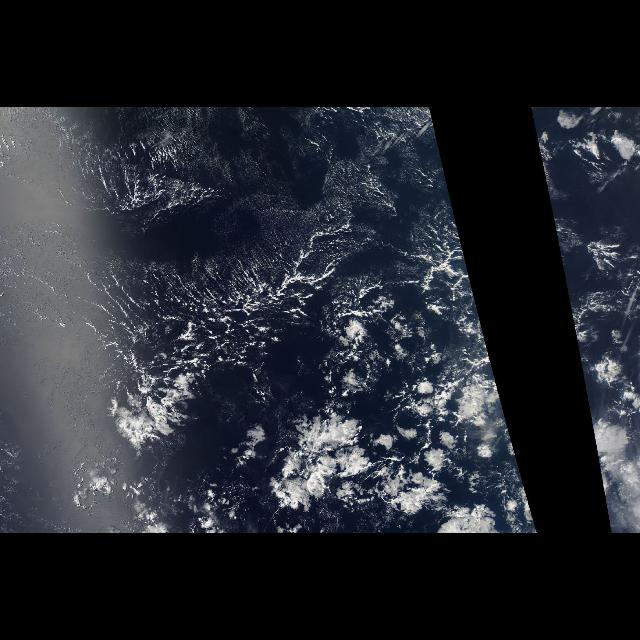Flower: (278, 283, 536, 533), (566, 284, 624, 524)
Sugar: (8, 110, 360, 362)
